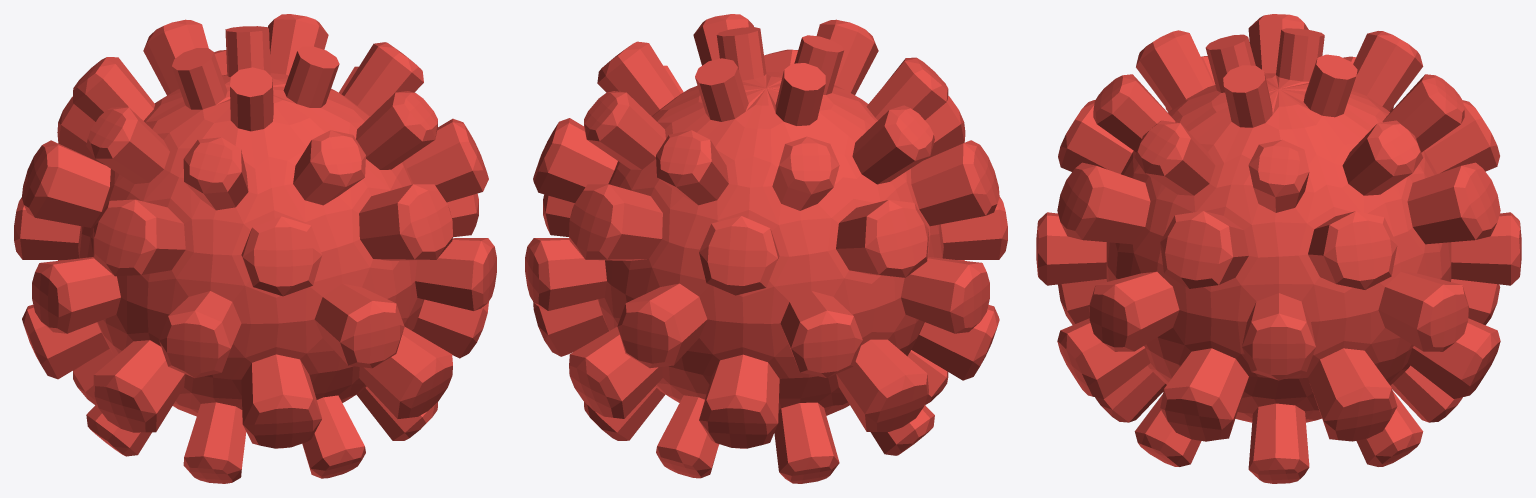
File: 3DCovid.fbx
3 renders of one model, left to right at view 1: azimuth 30°, elevation 25°; view 2: azimuth 150°, elevation 25°; view 3: azimuth 270°, elevation 25°, orthographic.
Parts seen in each view (by area): view 1: Sphere; view 2: Sphere; view 3: Sphere.
Part boxes in pixels (left/top/right/bottom): Sphere: left=14, top=14, right=496, bottom=483; Sphere: left=525, top=14, right=1007, bottom=483; Sphere: left=1036, top=14, right=1521, bottom=483.
Bounding box in the file's own units: 275 × 230 × 275.
